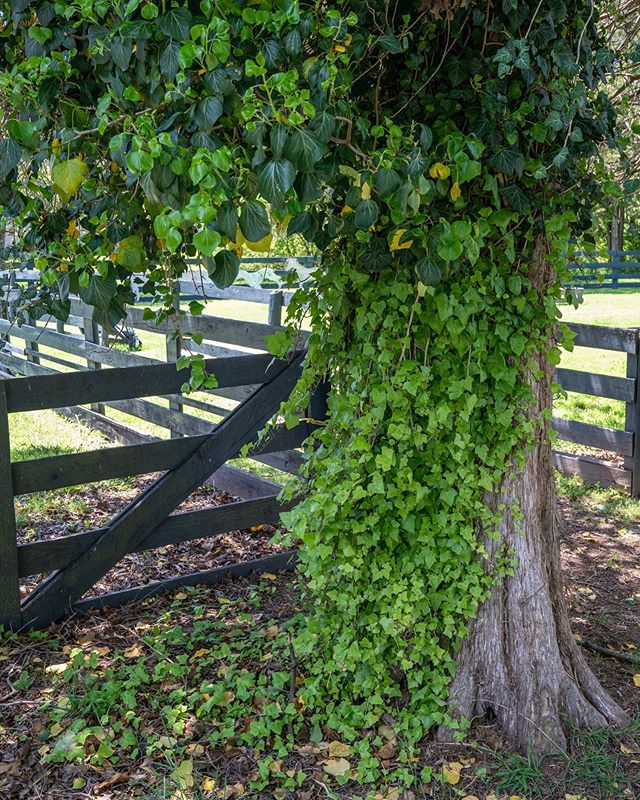gate: (1, 355, 336, 592)
tree: (87, 1, 621, 744)
